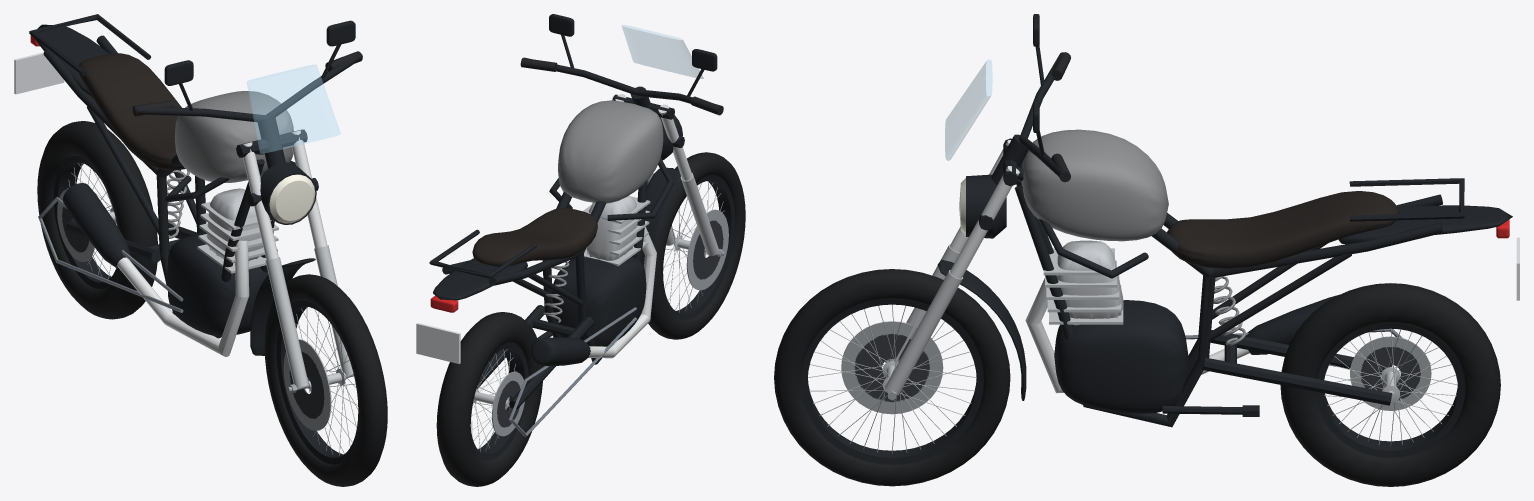
Rendered from royal_enfield_himalayan.glb.
3 renders of one model, left to right at view 1: azimuth 30°, elevation 25°; view 2: azimuth 150°, elevation 25°; view 3: azimuth 270°, elevation 25°, orthographic. The views are drawn at different scales.
Parts seen in each view (by area): view 1: royal_enfield_himalayan, steer, front_wheel, rear_wheel, swingarm; view 2: royal_enfield_himalayan, rear_wheel, front_wheel, steer, swingarm; view 3: royal_enfield_himalayan, rear_wheel, front_wheel, steer, swingarm, side_stand.
Part boxes in pixels (x1,y1,x2,y2): royal_enfield_himalayan: (14,14,295,356); steer: (132,20,362,393); front_wheel: (264,274,387,486); rear_wheel: (37,121,157,319); swingarm: (38,170,196,312); royal_enfield_himalayan: (416,86,673,366); rear_wheel: (436,312,542,486); front_wheel: (648,152,745,339); steer: (520,14,725,266); swingarm: (477,261,636,437); royal_enfield_himalayan: (991,129,1519,427); rear_wheel: (1280,283,1500,486); front_wheel: (774,269,1010,486); steer: (885,14,1070,400); swingarm: (1185,276,1430,405); side_stand: (1162,405,1259,416).
Size of the model in its own units: 0.8402 by 1.37 by 2.19.
